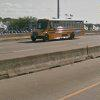Bus: (26, 15, 89, 47)
